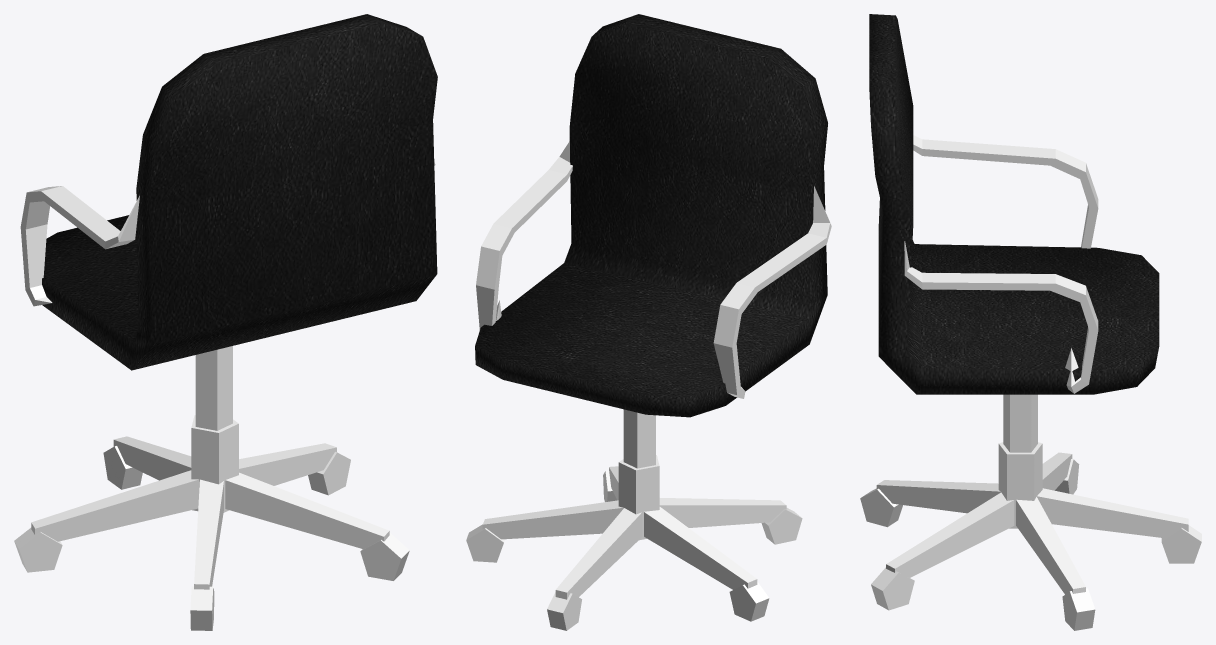
Rendered from Chair_10.glb.
The picture shows the model from 3 angles, left to right: view 1: azimuth 30°, elevation 25°; view 2: azimuth 150°, elevation 25°; view 3: azimuth 270°, elevation 25°; orthographic projection. The views are drawn at different scales.
Parts seen in each view (by area): view 1: Chair_10; view 2: Chair_10; view 3: Chair_10.
Boxes of the visible parts, x1,y1,x2,y2 form: Chair_10: [14, 14, 437, 630]; Chair_10: [466, 14, 831, 630]; Chair_10: [860, 14, 1201, 630].
Size of the model in its own units: 0.6563 by 1.04 by 0.63.
2 materials, 1 textured.
